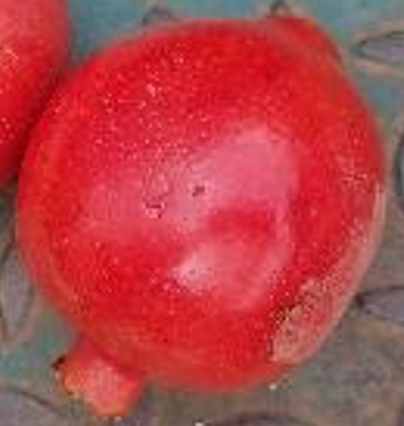pomegranate_A: (14, 12, 390, 417)
